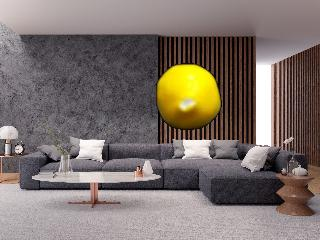lemon: (157, 65, 222, 130)
